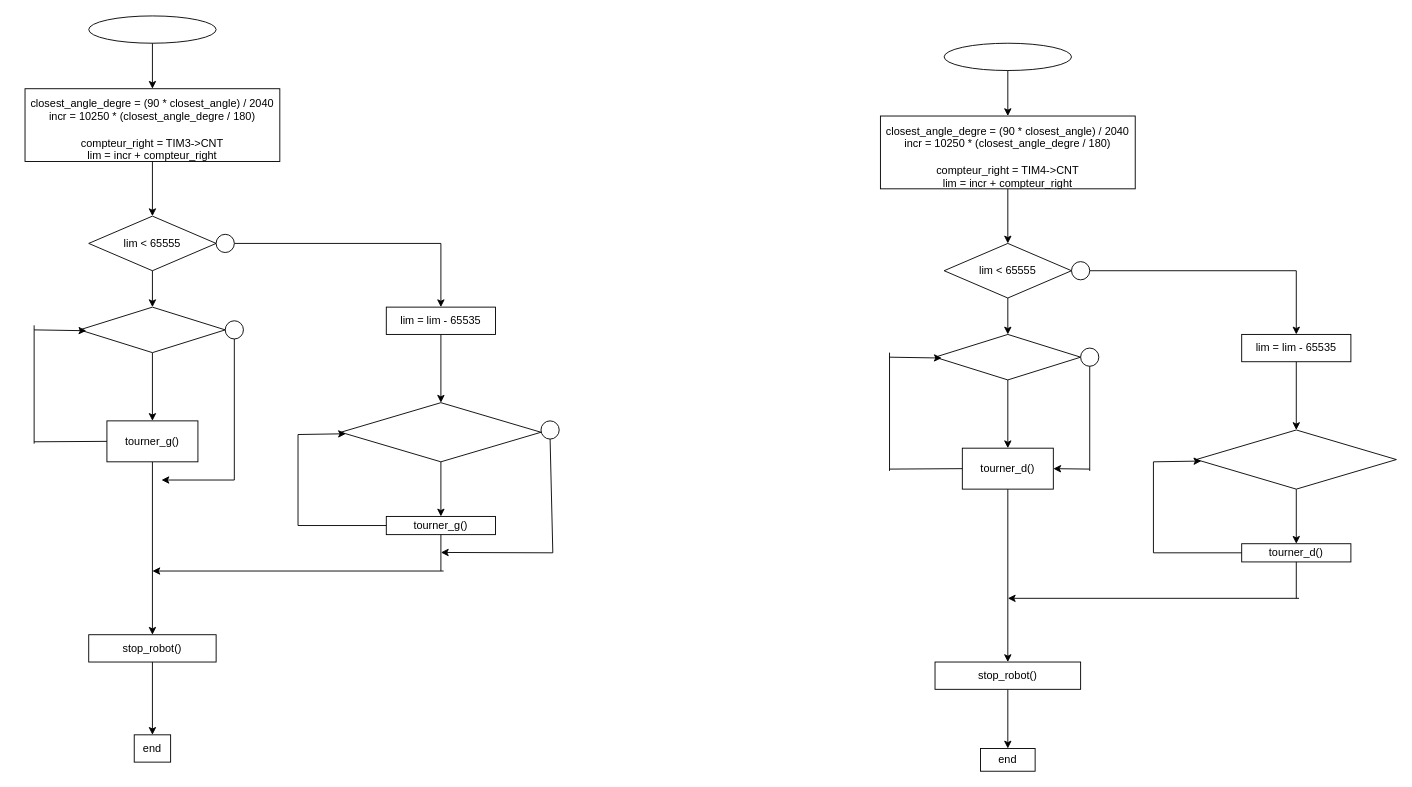
Some shapes in this 1412 by 787 pixel diagram are drawn without their labels. The shapes that lost their labels are listed below. From the top down, each one's centre as x and y in pixels, then its label:
At pixel 152 29: "tourner_gauche_auto()".
At pixel 1007 56: "tourner_droite_auto()".
At pixel 152 329: "TIM3->CNT < lim".
At pixel 1007 357: "TIM4->CNT < lim".
At pixel 440 432: "TIM3->CNT >= compteur_right && TIM3->CNT < lim".
At pixel 1295 459: "TIM4->CNT >= compteur_right && TIM4->CNT < lim".
